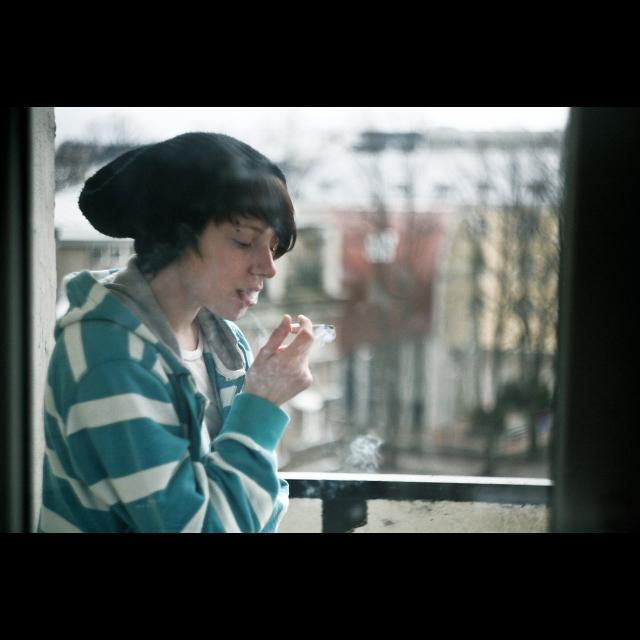rokok: (285, 319, 341, 336)
